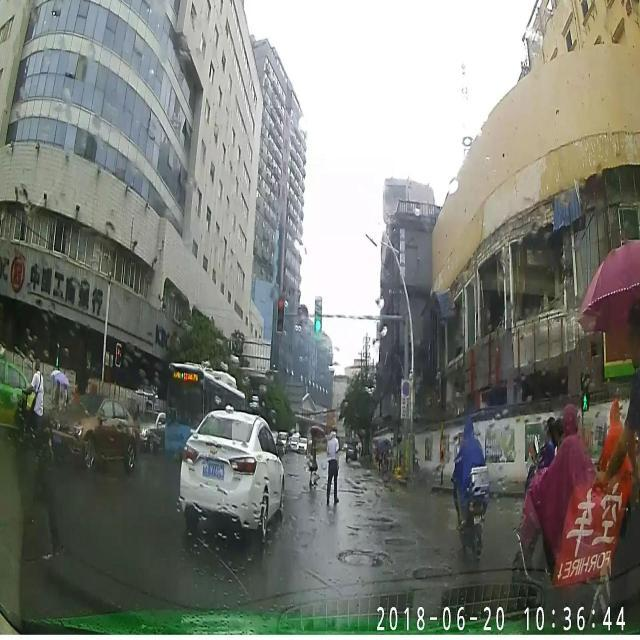car: (178, 408, 284, 538), (47, 394, 138, 474), (132, 411, 174, 448), (344, 437, 358, 460)
